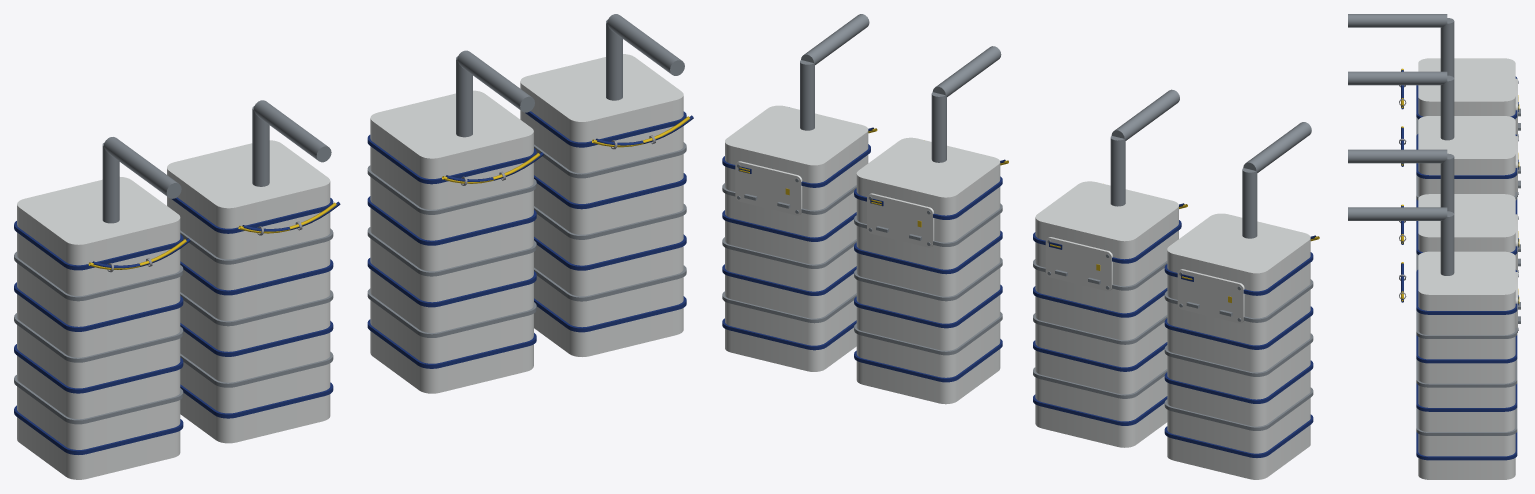
3 renders of one model, left to right at view 1: azimuth 30°, elevation 25°; view 2: azimuth 150°, elevation 25°; view 3: azimuth 270°, elevation 25°, orthographic. The views are drawn at different scales.
Parts seen in each view (by area): view 1: l200_o2; view 2: l200_o2; view 3: l200_o2.
Boxes of the visible parts, x1,y1,x2,y2 form: l200_o2: [14, 14, 693, 479]; l200_o2: [722, 14, 1319, 479]; l200_o2: [1348, 14, 1520, 479].
Bounding box in the file's own units: 5.79 × 2.84 × 1.78.
